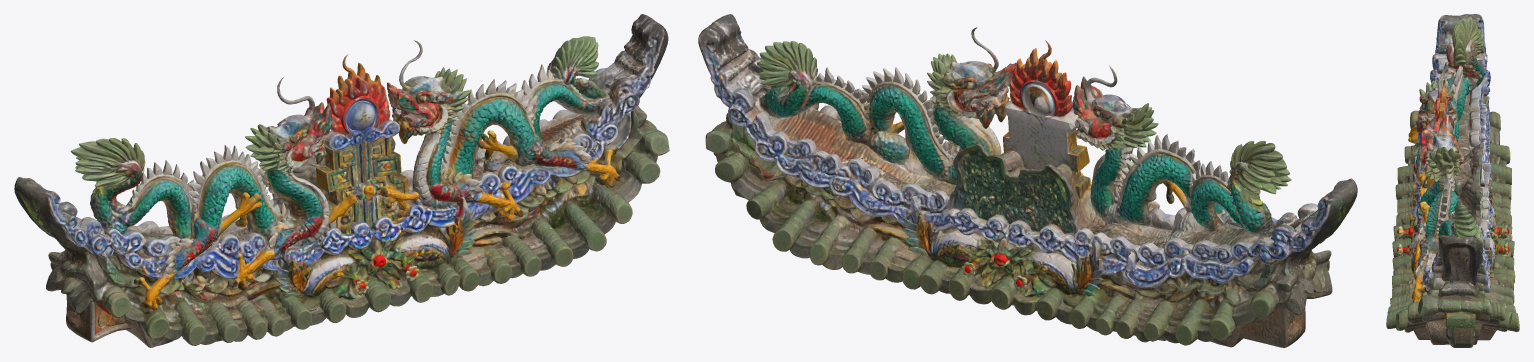
The model's file is ridge.glb.
3 renders of one model, left to right at view 1: azimuth 30°, elevation 25°; view 2: azimuth 150°, elevation 25°; view 3: azimuth 270°, elevation 25°, orthographic. The views are drawn at different scales.
Parts seen in each view (by area): view 1: model; view 2: model; view 3: model.
Part boxes in pixels (left/top/right/bottom): model: left=14, top=14, right=669, bottom=347; model: left=698, top=14, right=1357, bottom=347; model: left=1386, top=14, right=1519, bottom=347.
Bounding box in the file's own units: 1.9 × 0.6856 × 0.4511.
Materials: 1 (1 with a texture image).
